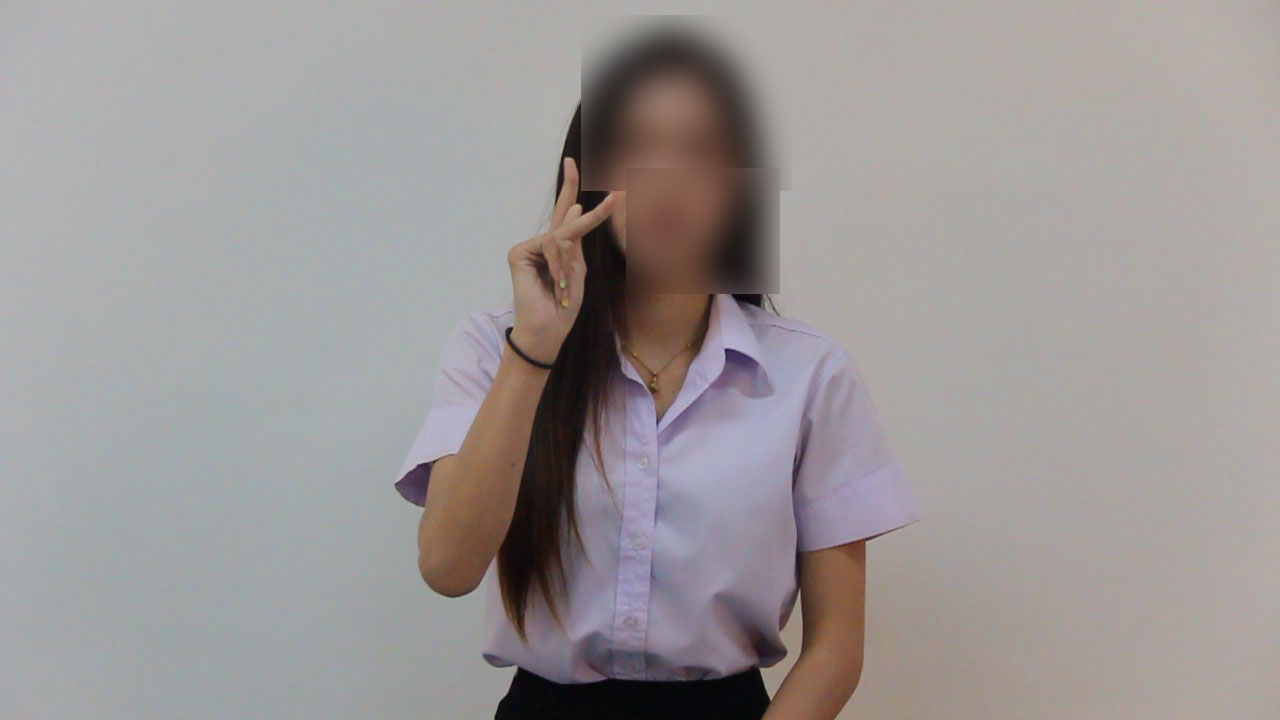ko: (473, 154, 621, 334)
